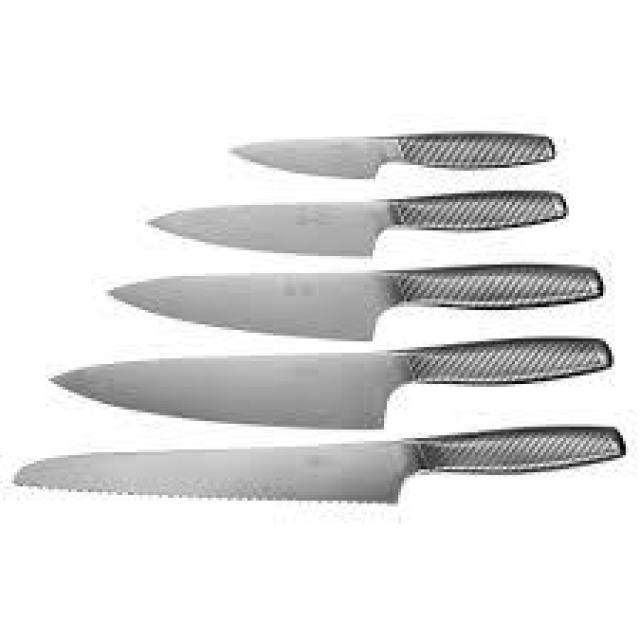Knife: (0, 408, 640, 530), (32, 329, 637, 442), (85, 264, 622, 352), (121, 182, 639, 268), (196, 110, 588, 198)
